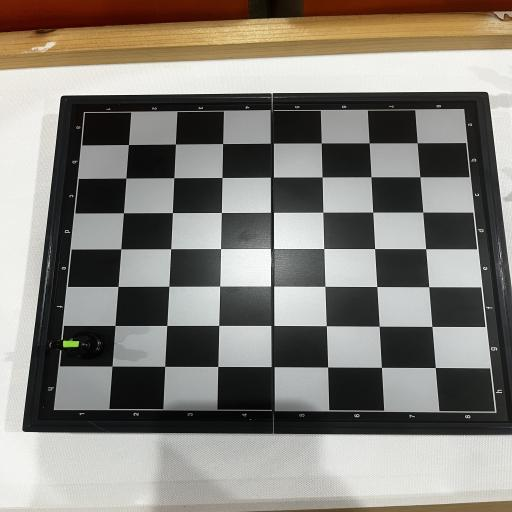Black knight: (44, 334, 104, 359)
